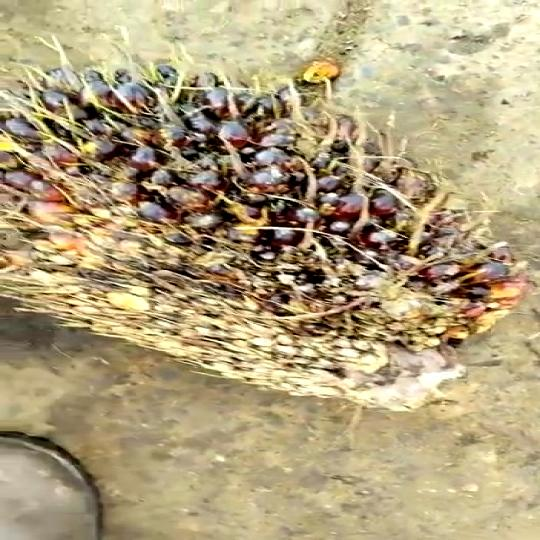mentah: (0, 56, 510, 413)
